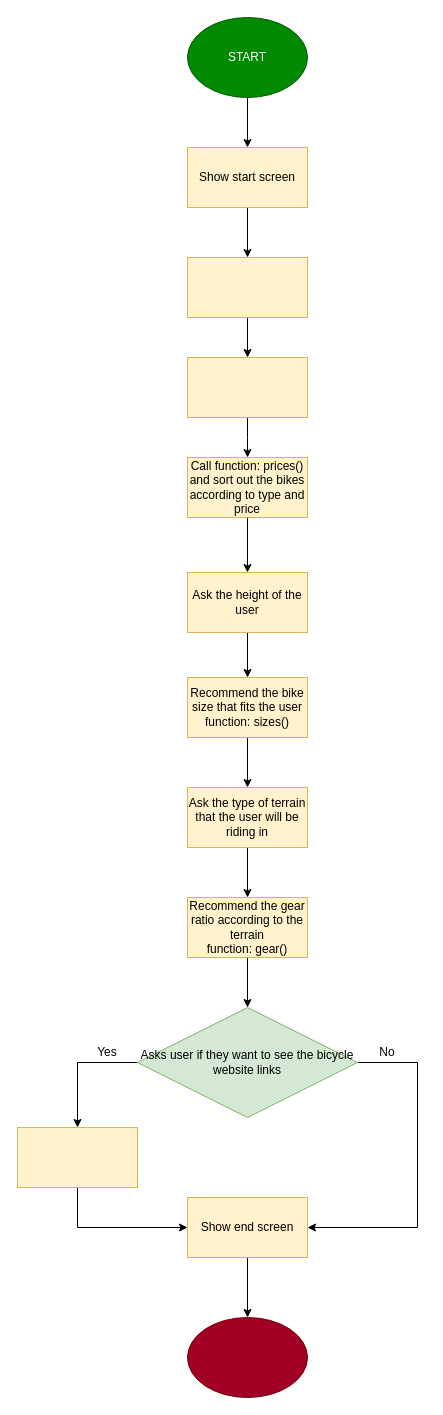
Image size: 443x1415. Some labels were removed from this diagram. The shapes that lost their labels are listed below. From the top down, each one's centre as x and y in pixels, then its label:
At point (247, 287): "Asks the user the desired road bike type".
At point (247, 387): "Ask user the price range".
At point (77, 1157): "Show the website links".
At point (247, 1357): "STOP".
